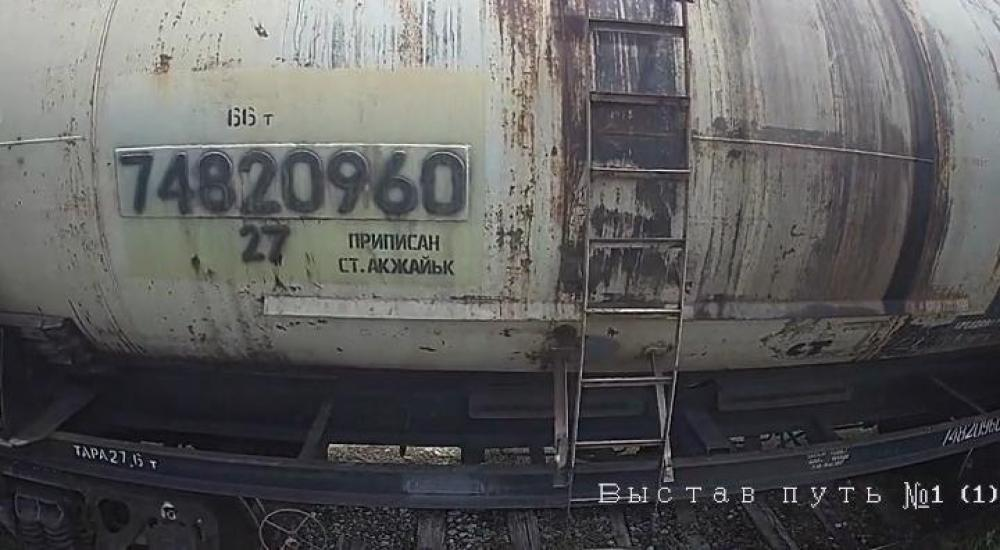Wagon-number: (115, 145, 470, 221)
